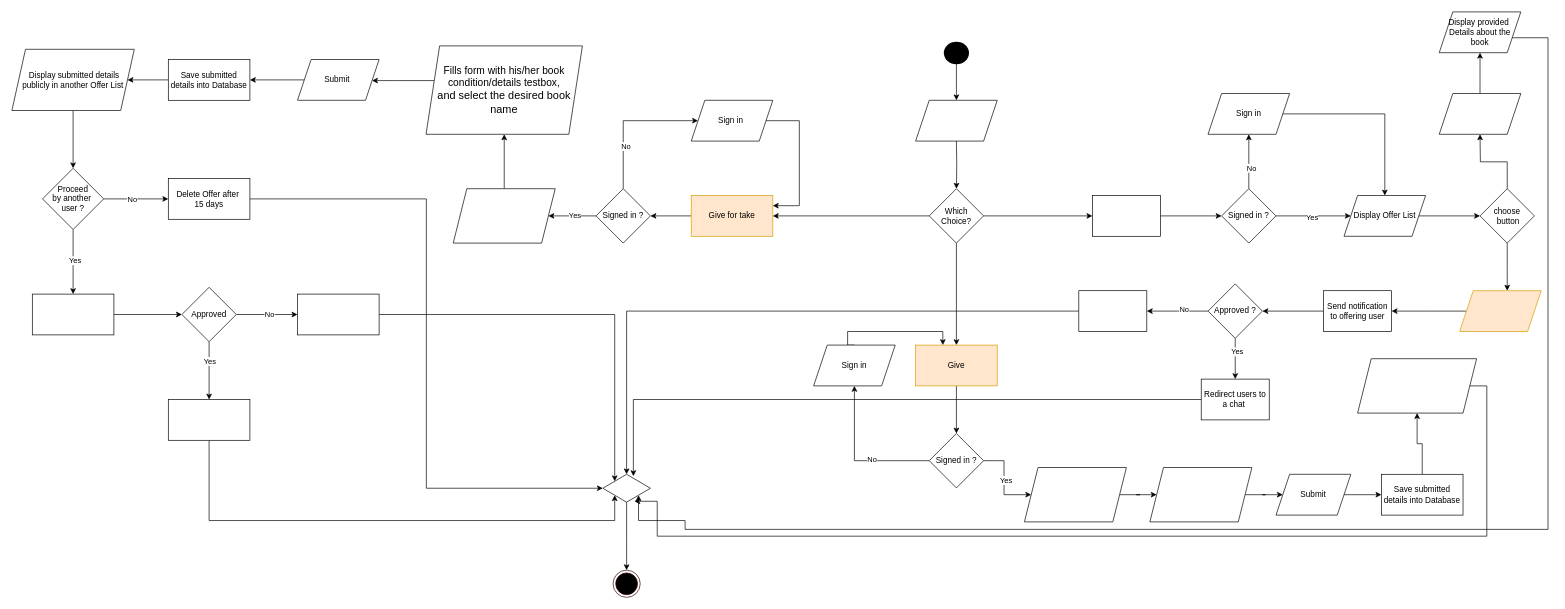
The diagram is 1565 pixels wide and 609 high, and some of its shapes have lost their labels. The shapes that lost their labels are listed below. From the top down, each one's box as (x1, y1, x2, y2) in pixels, then its label:
(915, 100, 997, 141): Select Book
(1439, 93, 1521, 134): Clicks Details
(453, 188, 555, 243): Display a form
(1092, 195, 1160, 236): Take
(32, 293, 114, 335): sends notification to the offering user
(297, 293, 379, 335): Drop Request
(1078, 290, 1147, 332): Discard Request
(1459, 290, 1541, 332): Request
(1357, 358, 1477, 413): Add submitted Offer details publicly in Offer List
(168, 399, 250, 440): Directs users to a chat
(1024, 467, 1126, 522): Outputs empty text box for book detail
(1149, 467, 1252, 522): Type book conditins/details in a text box
